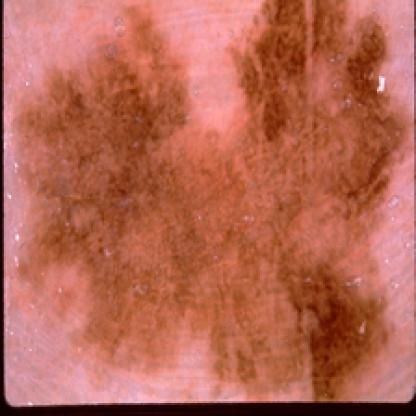malignant: (35, 28, 403, 360)
